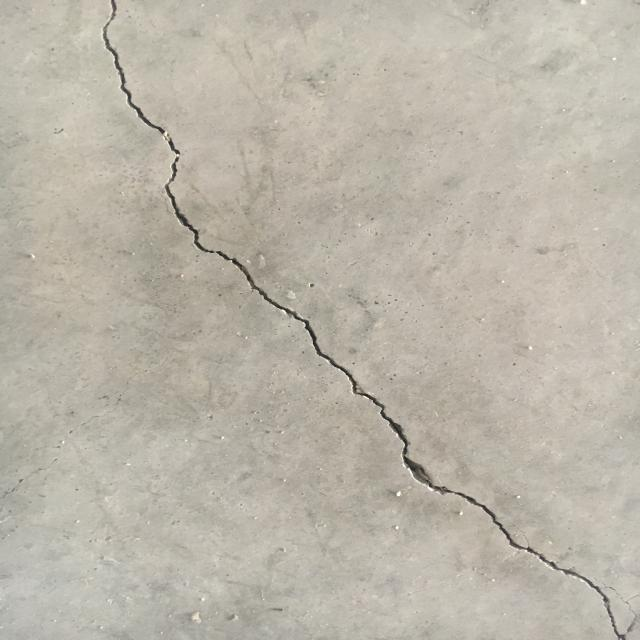SurfaceCrack: (56, 1, 638, 639)
